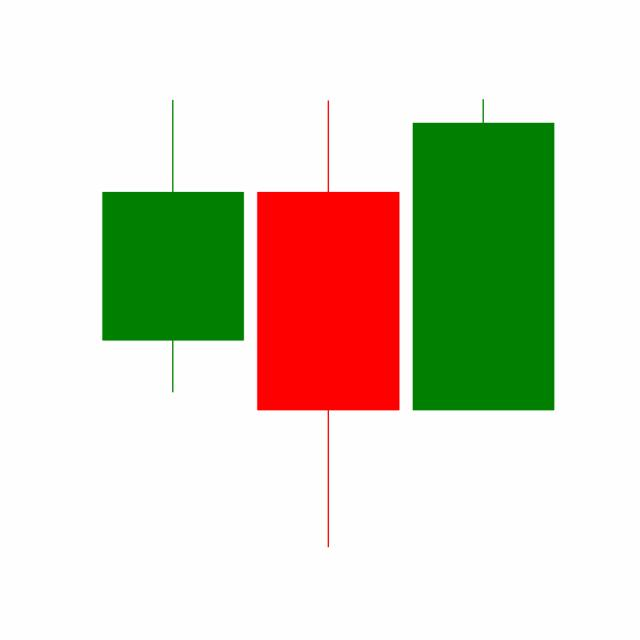Marubozu: (405, 95, 561, 413)
